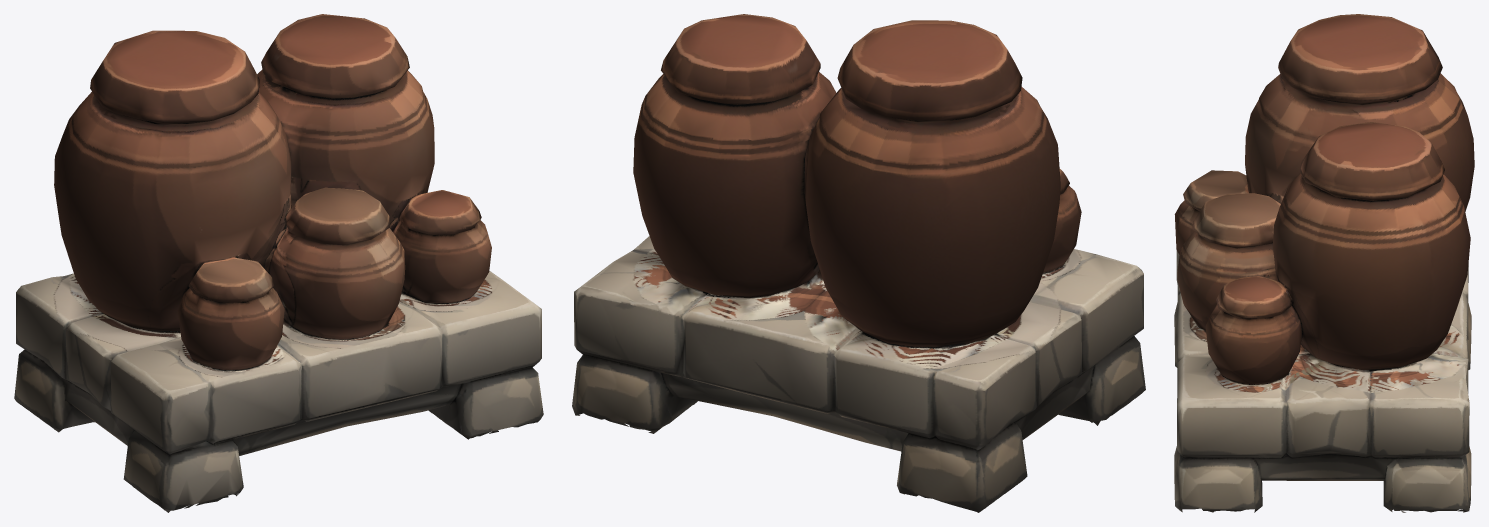
The model's file is jangdok.glb.
The picture shows the model from 3 angles, left to right: view 1: azimuth 30°, elevation 25°; view 2: azimuth 150°, elevation 25°; view 3: azimuth 270°, elevation 25°; orthographic projection. The views are drawn at different scales.
Visible parts, largest first — view 1: low; view 2: low; view 3: low.
Part boxes in pixels (x1,y1,x2,y2): low: (14, 14, 543, 512); low: (572, 14, 1145, 512); low: (1174, 14, 1474, 512).
Size of the model in its own units: 1 by 0.9111 by 0.7147.
Materials: 1 (1 with a texture image).
